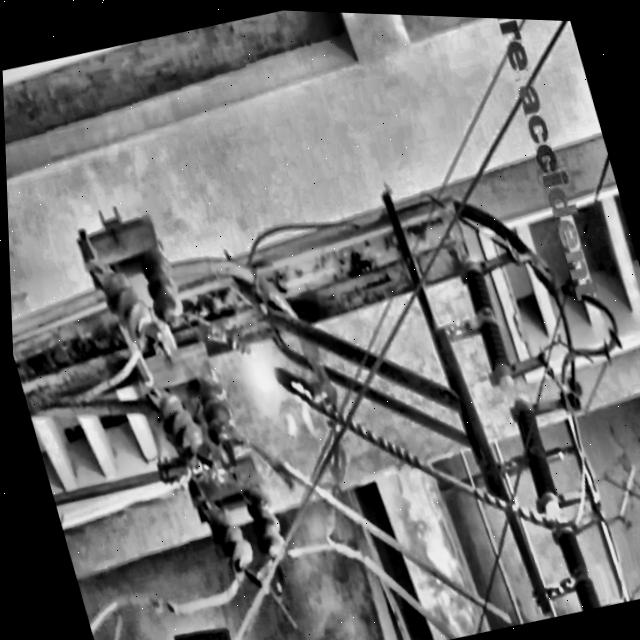Fire: (231, 328, 291, 427)
